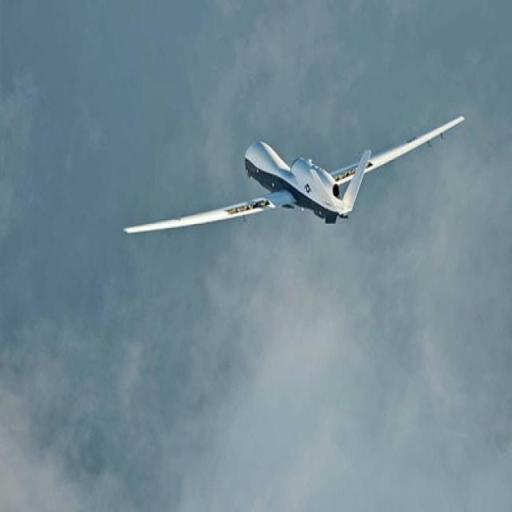uav: (124, 102, 470, 238)
